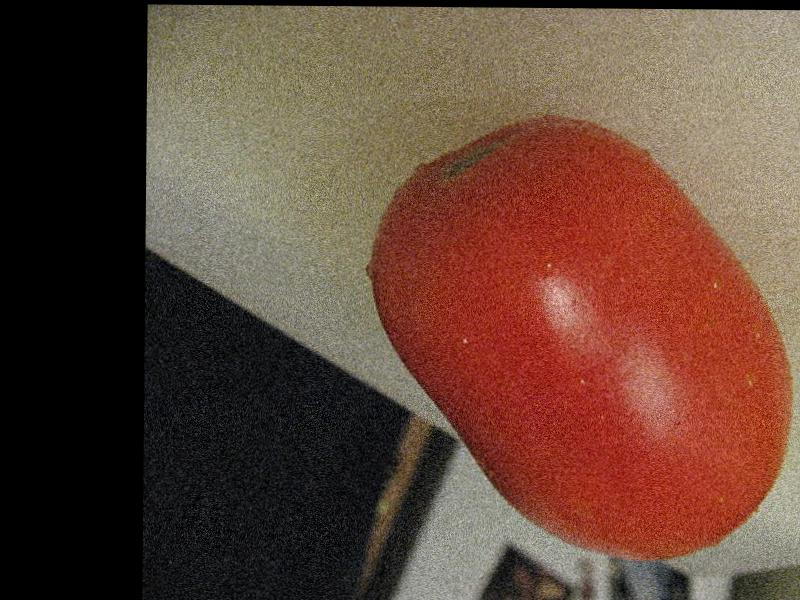Tomato: (367, 117, 793, 563)
